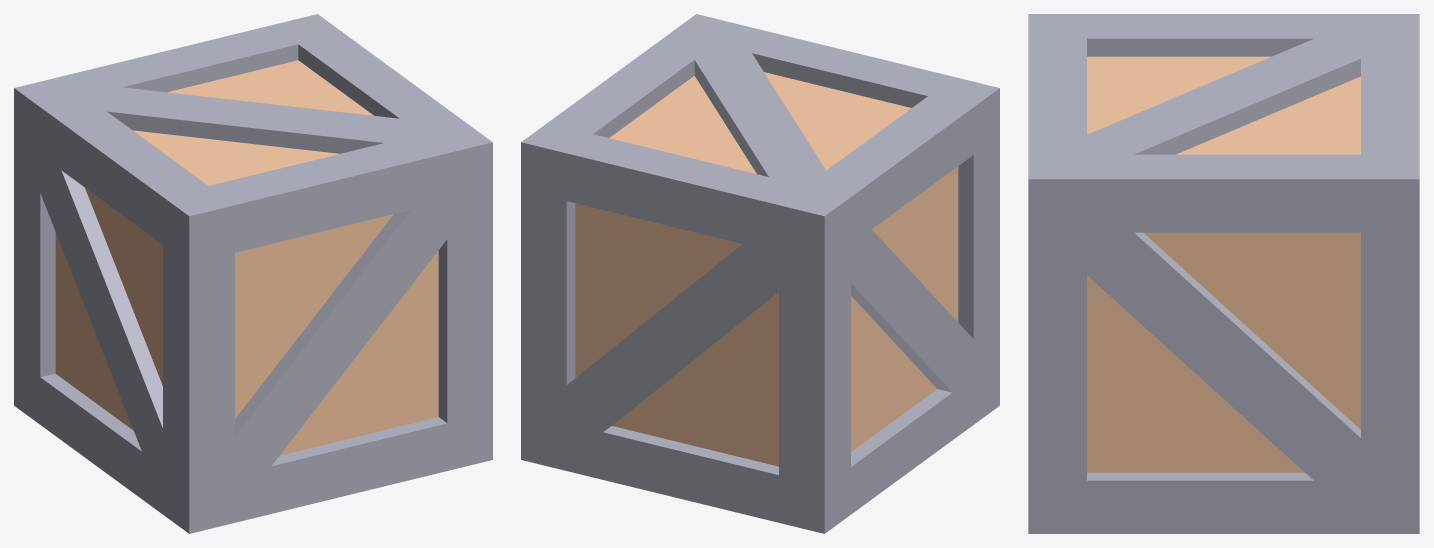
The model's file is cubeOrange.gltf.
3 renders of one model, left to right at view 1: azimuth 30°, elevation 25°; view 2: azimuth 150°, elevation 25°; view 3: azimuth 270°, elevation 25°, orthographic. The views are drawn at different scales.
Parts seen in each view (by area): view 1: storageCube_exterior_geo.002, storageCube_interior_geo.002; view 2: storageCube_exterior_geo.002, storageCube_interior_geo.002; view 3: storageCube_exterior_geo.002, storageCube_interior_geo.002.
Part boxes in pixels (x1,y1,x2,y2): storageCube_exterior_geo.002: [14, 14, 492, 533]; storageCube_interior_geo.002: [55, 60, 438, 455]; storageCube_exterior_geo.002: [521, 14, 999, 533]; storageCube_interior_geo.002: [575, 72, 958, 466]; storageCube_exterior_geo.002: [1028, 14, 1419, 533]; storageCube_interior_geo.002: [1087, 56, 1360, 472].
Size of the model in its own units: 2 by 2 by 2.
